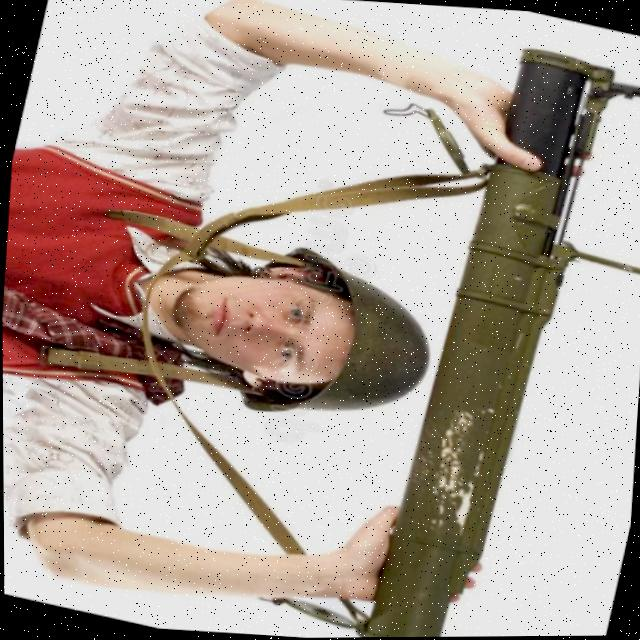rocket: (343, 14, 640, 638)
